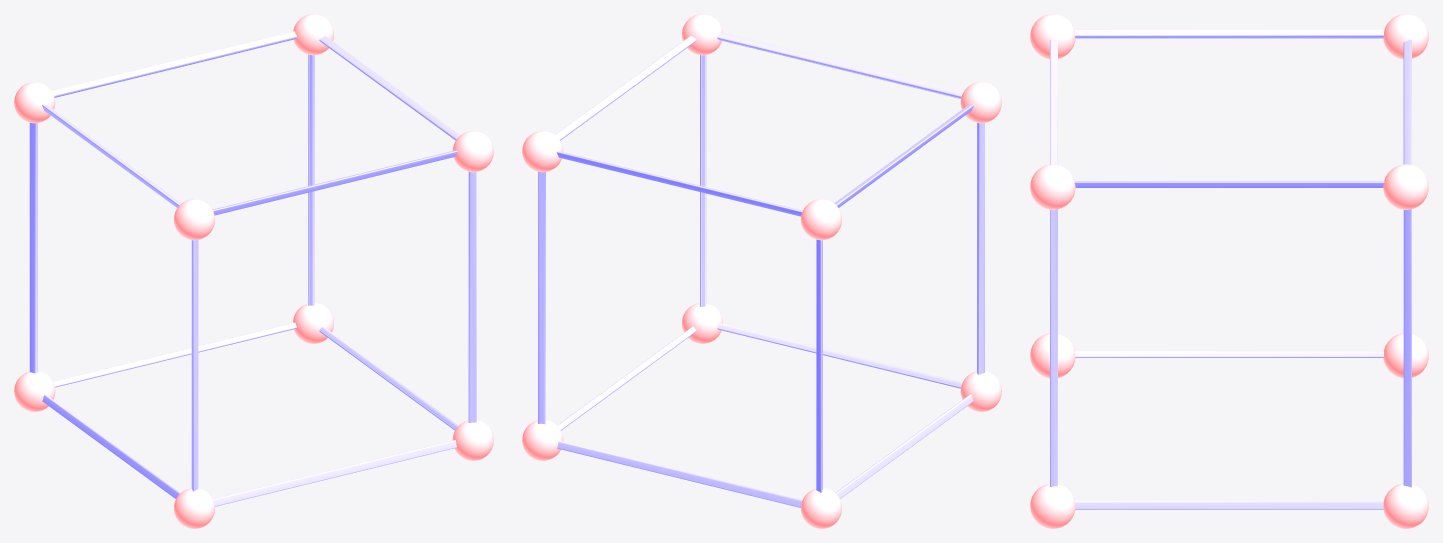
The model's file is 3d_3d-icon.glb.
The picture shows the model from 3 angles, left to right: view 1: azimuth 30°, elevation 25°; view 2: azimuth 150°, elevation 25°; view 3: azimuth 270°, elevation 25°; orthographic projection. The views are drawn at different scales.
Parts seen in each view (by area): view 1: Cube; view 2: Cube; view 3: Cube.
Part boxes in pixels (bbox=[...]): Cube: bbox=[14, 14, 493, 528]; Cube: bbox=[522, 14, 1001, 528]; Cube: bbox=[1030, 14, 1428, 528].
Bounding box in the file's own units: 2.25 × 2.23 × 2.24.
